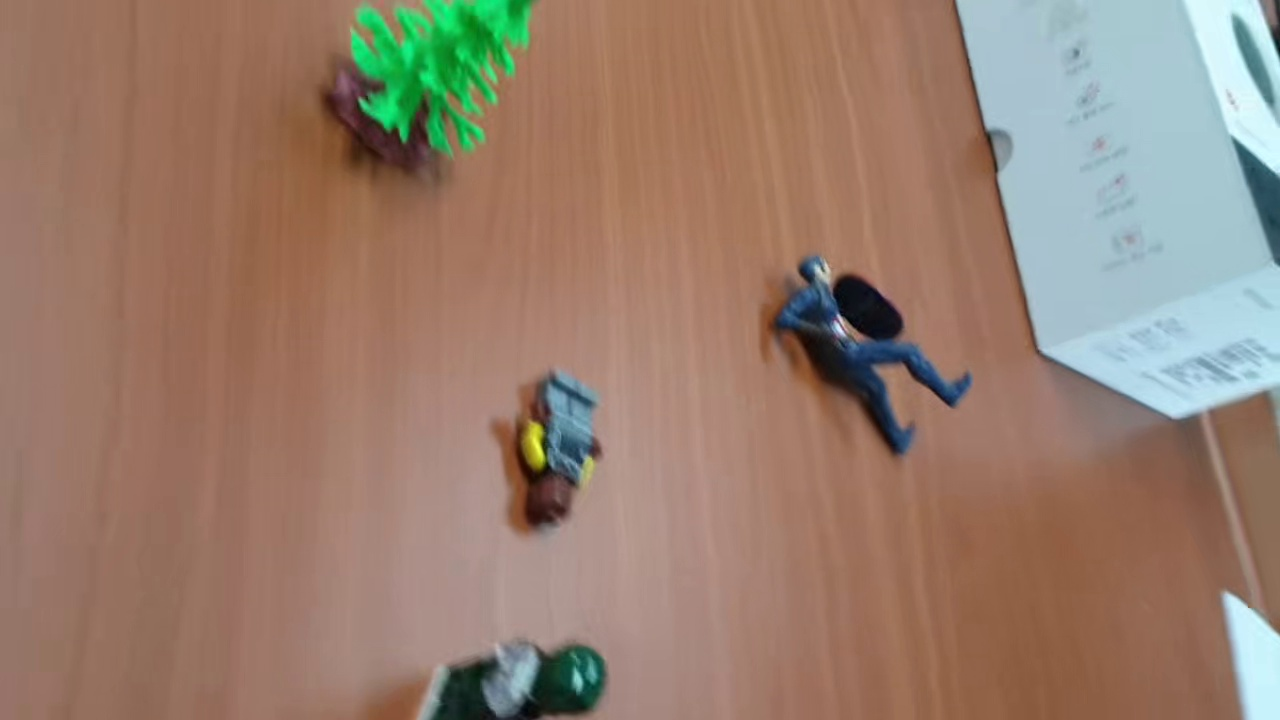people: (765, 254, 975, 458), (402, 634, 612, 720), (513, 366, 606, 533)
tree: (320, 1, 536, 181)
